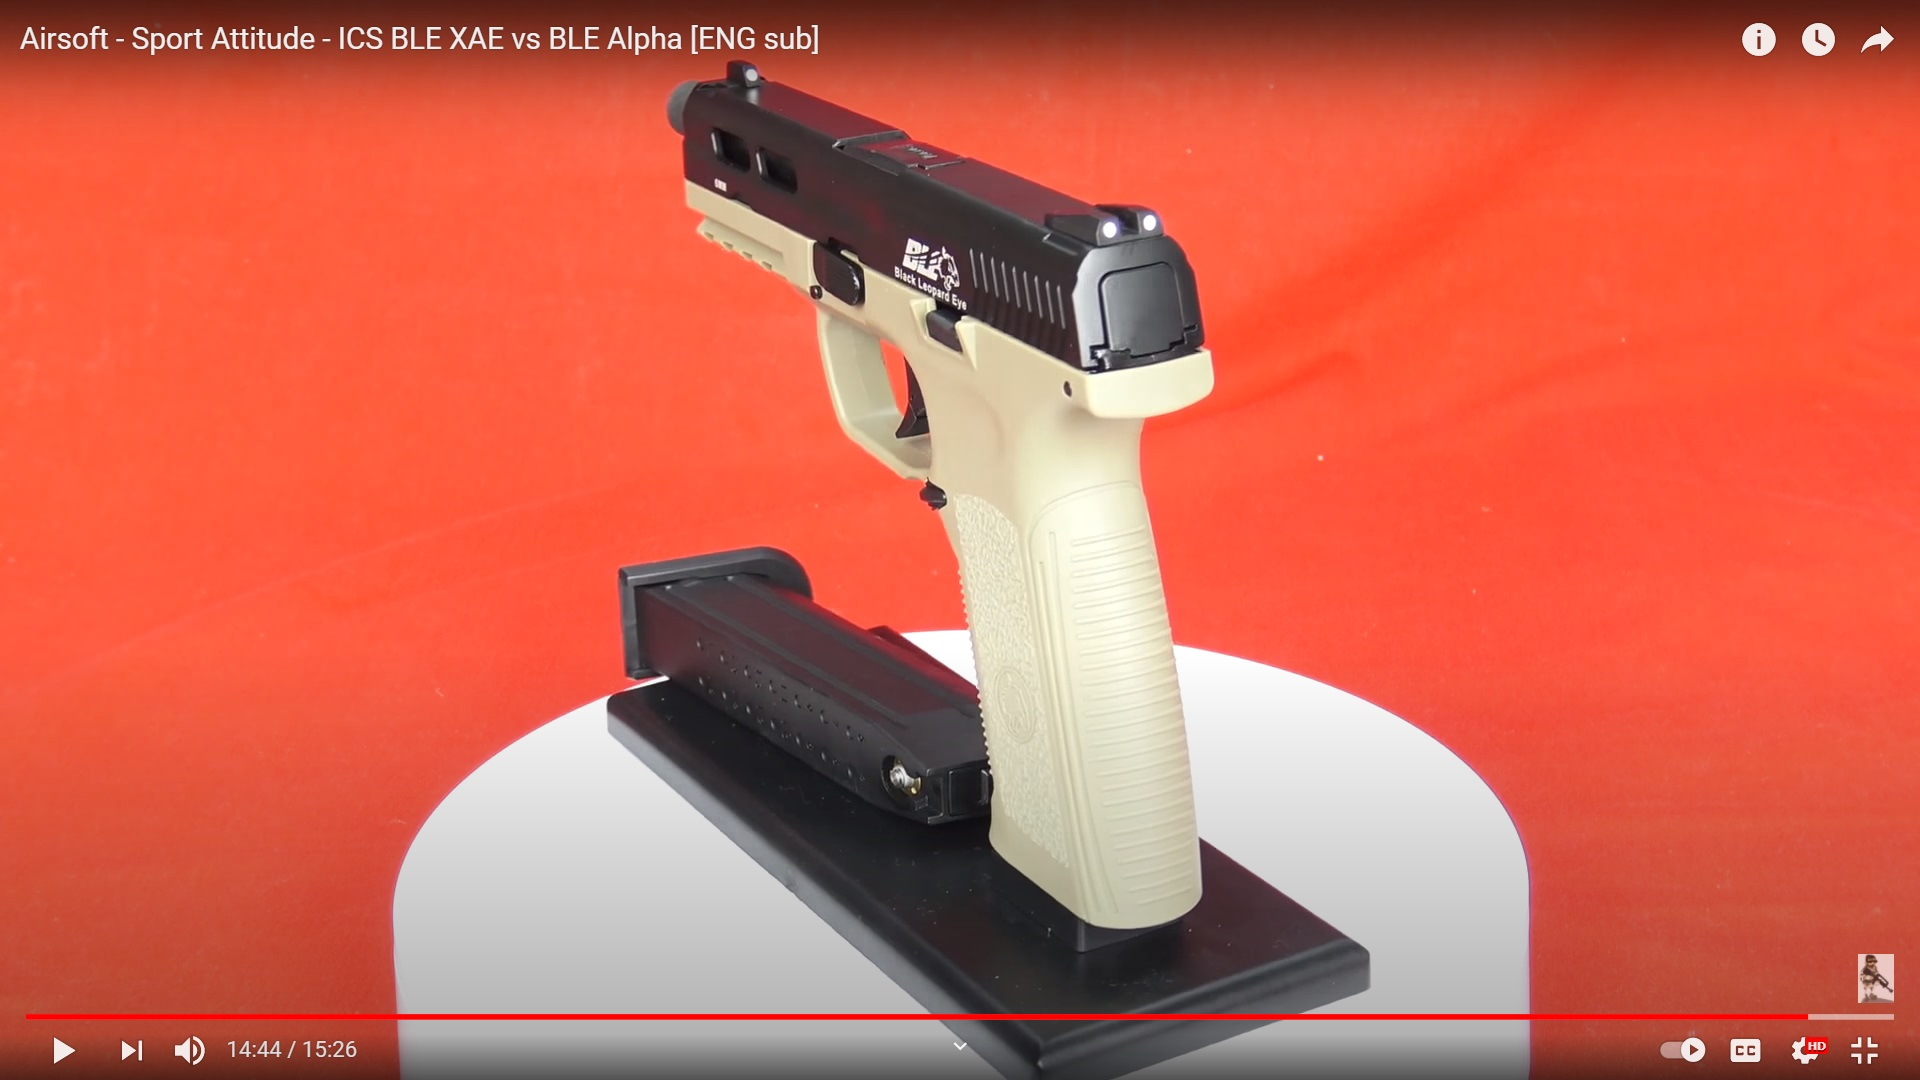asg_ics_ble_xae: (607, 71, 1244, 928)
